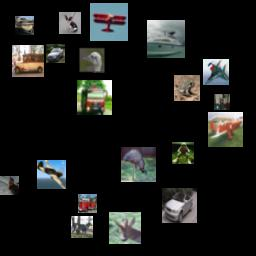airplane: (90, 3, 128, 41), (208, 112, 243, 147), (37, 160, 66, 189), (203, 59, 229, 85)
automobile: (162, 188, 197, 223), (12, 45, 44, 77), (46, 44, 65, 63)
bird: (121, 147, 156, 182), (79, 47, 105, 73)
cat: (0, 176, 19, 195), (214, 94, 230, 110)
deer: (109, 212, 141, 244), (71, 216, 93, 238)
dog: (59, 12, 81, 34)
frog: (174, 75, 200, 101), (172, 142, 194, 164)
ship: (147, 20, 185, 58), (15, 16, 34, 35)
truck: (77, 80, 112, 115), (78, 194, 97, 213)
